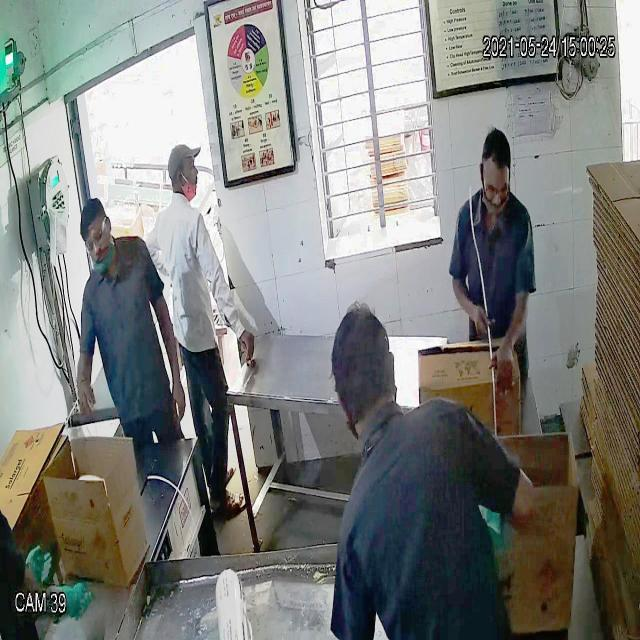glasses: (78, 220, 114, 258), (476, 170, 512, 203)
